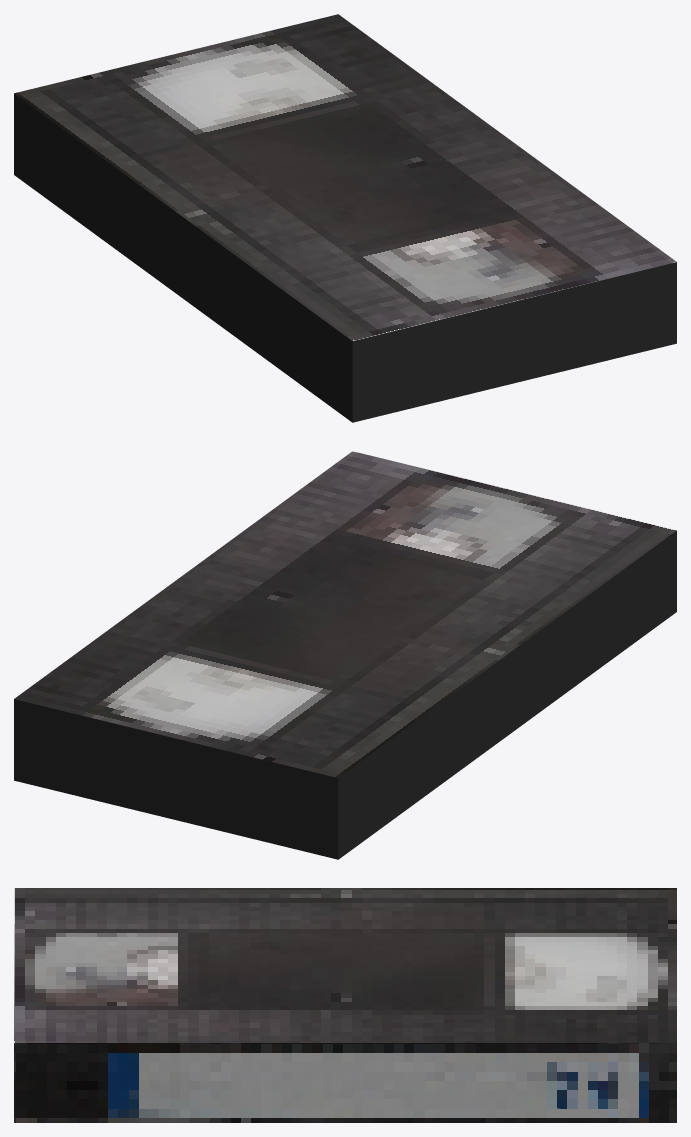
Rendered from Vhs.glb.
The picture shows the model from 3 angles, top to bottom: view 1: azimuth 30°, elevation 25°; view 2: azimuth 150°, elevation 25°; view 3: azimuth 270°, elevation 25°; orthographic projection. The views are drawn at different scales.
Parts seen in each view (by area): view 1: vhs; view 2: vhs; view 3: vhs.
Boxes of the visible parts, x1,y1,x2,y2 form: vhs: (14,14,676,422); vhs: (14,451,676,859); vhs: (14,888,676,1122).
Bounding box in the file's own units: 0.104 × 0.025 × 0.188.
1 material, 1 textured.
